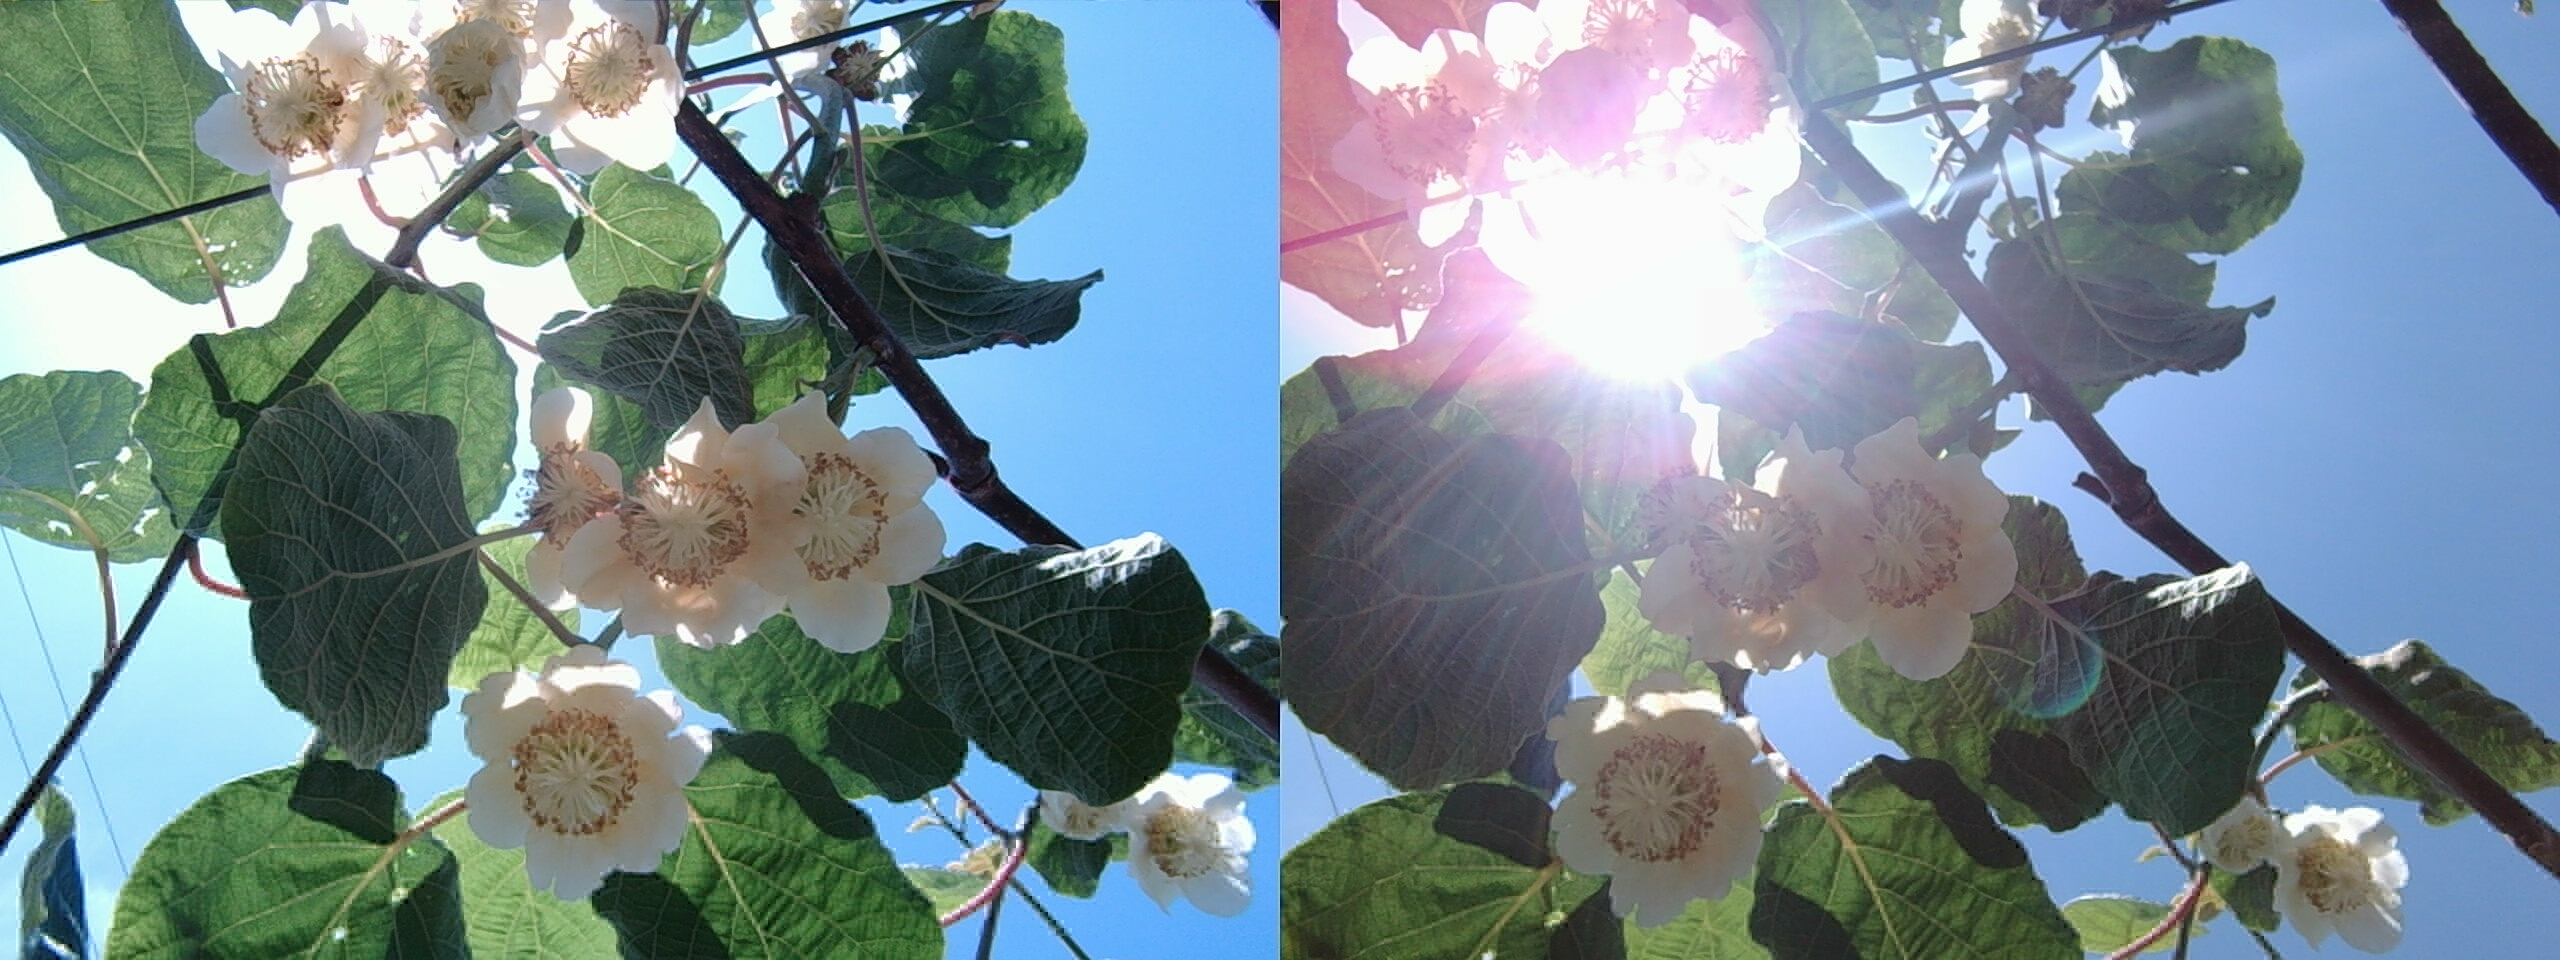flower: (1378, 3, 1796, 214), (441, 651, 713, 908), (531, 403, 803, 647), (1523, 691, 1794, 921), (1783, 429, 2021, 682), (730, 398, 949, 648), (1629, 459, 1855, 681), (186, 3, 428, 188), (1329, 31, 1536, 194), (1068, 761, 1265, 926), (506, 389, 627, 601), (529, 16, 694, 170), (2247, 802, 2411, 952), (402, 10, 537, 147)
